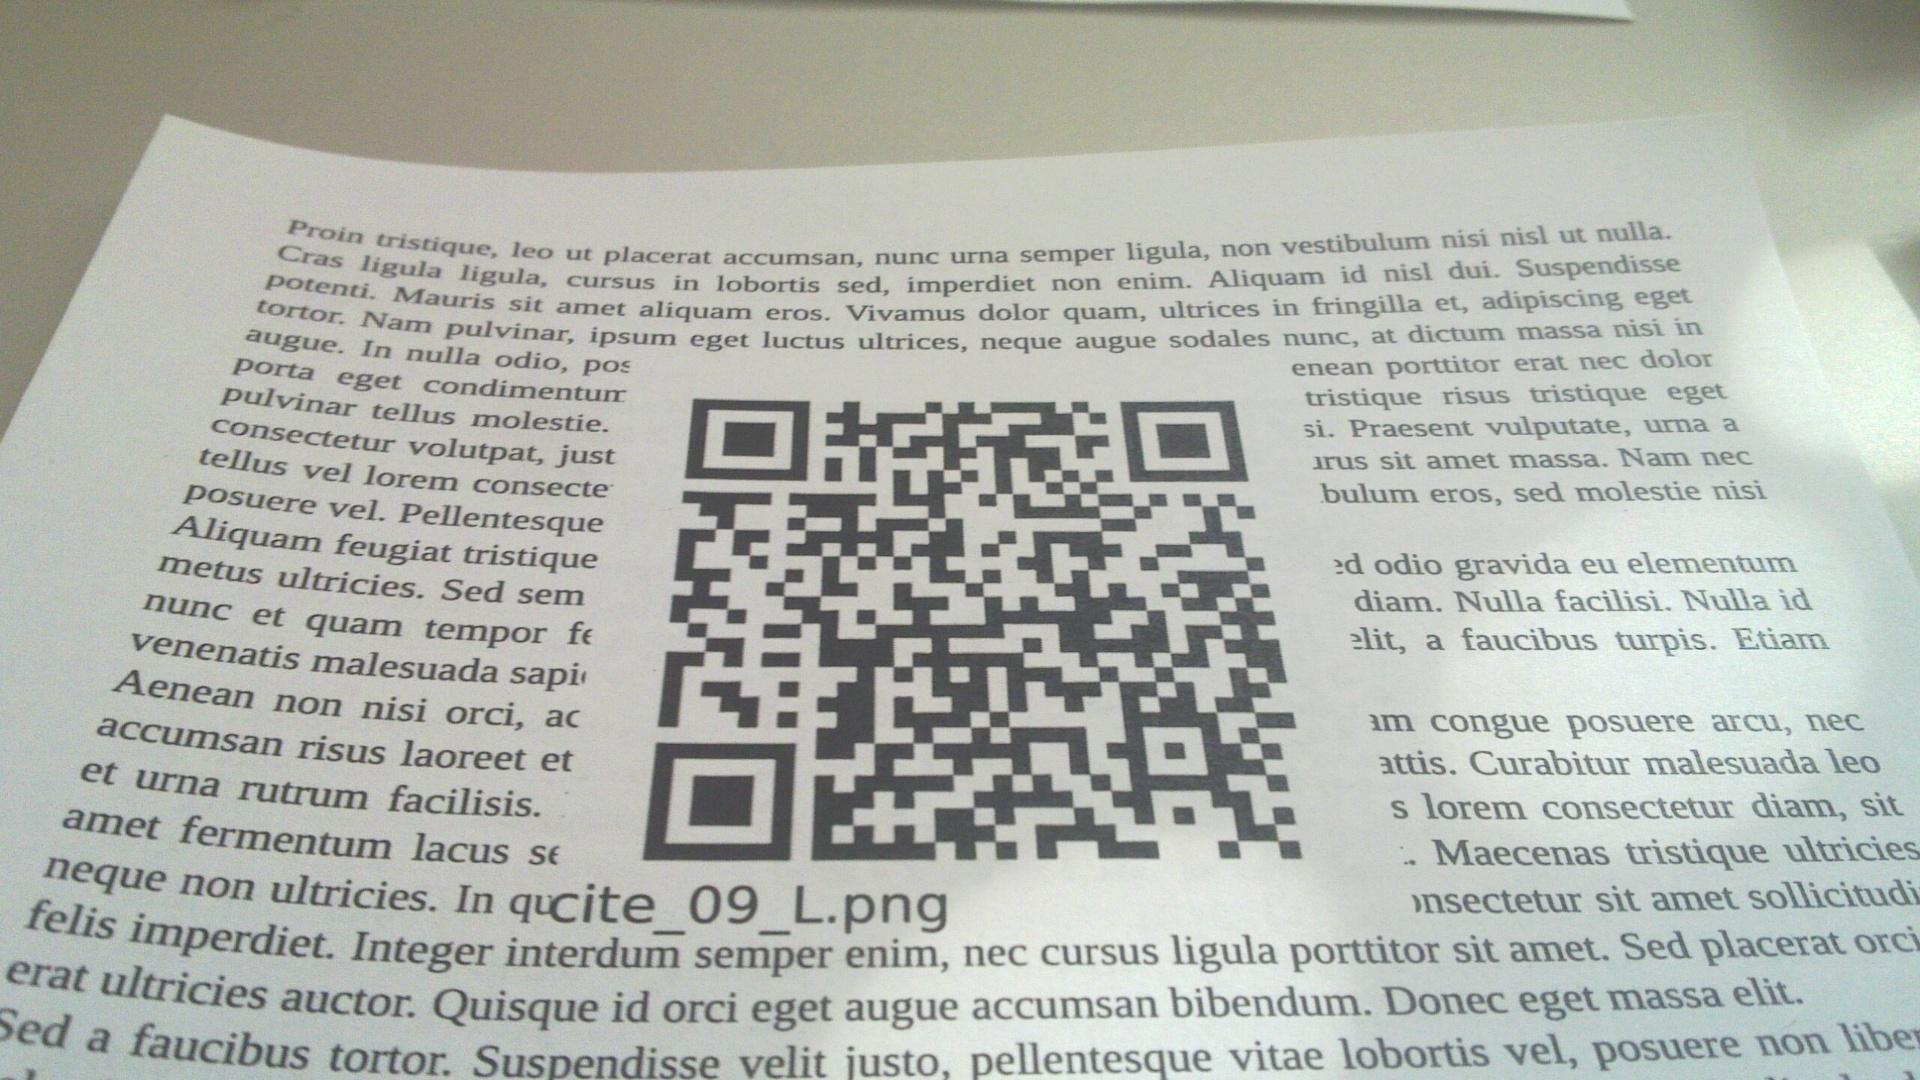Finder pattern: (644, 736, 800, 866), (1112, 394, 1255, 487), (678, 392, 815, 488)
